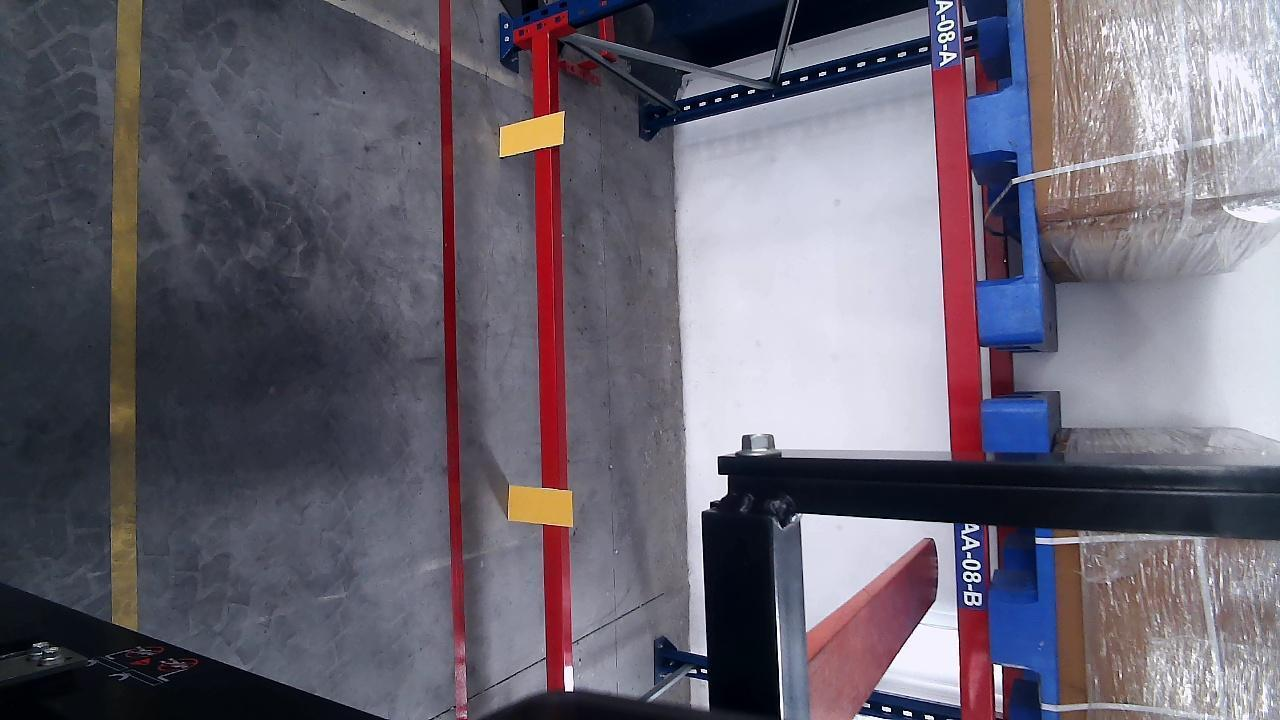red_line: (438, 1, 468, 720)
yellow_line: (113, 0, 144, 630)
